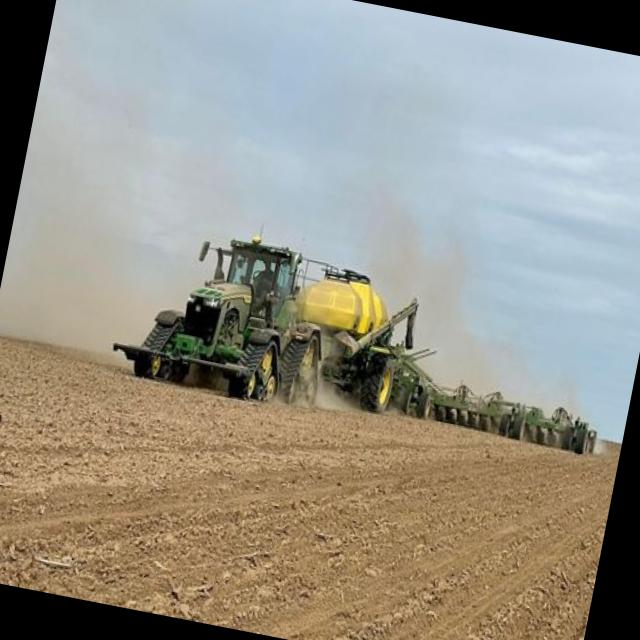red-sand: (0, 340, 620, 640)
